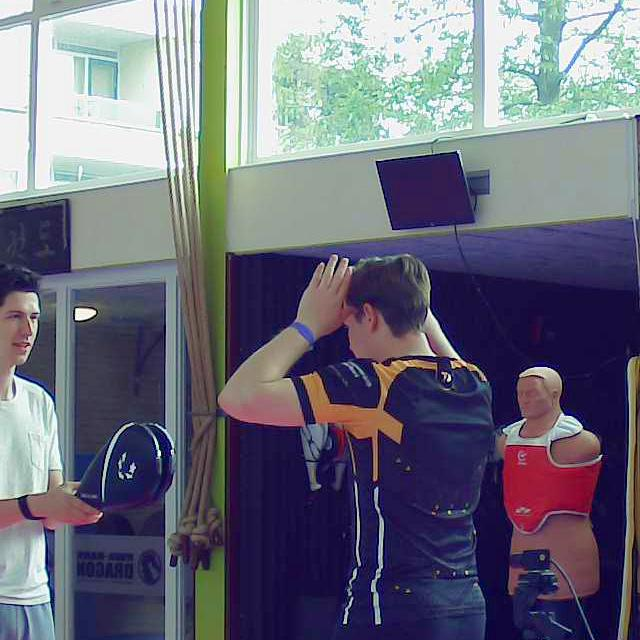paddle: (70, 418, 177, 511)
